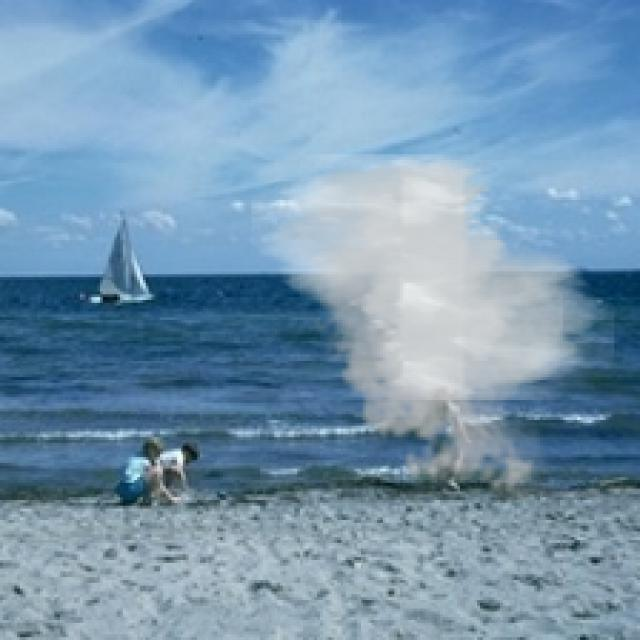Smoke: (252, 154, 614, 503)
